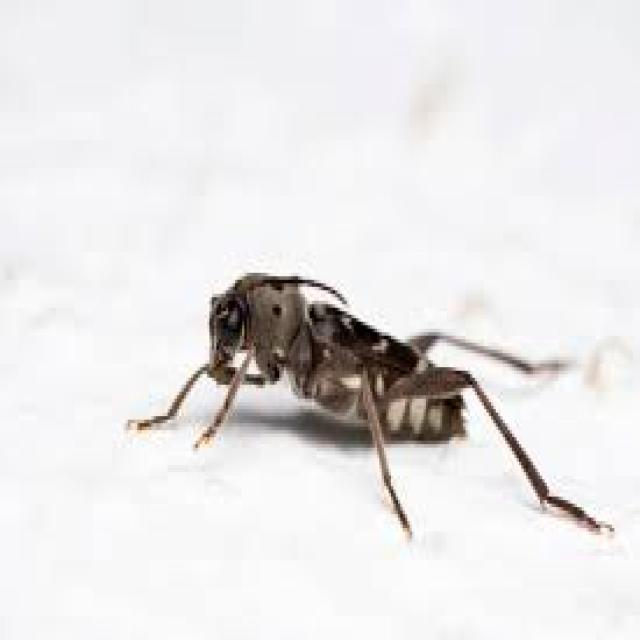Saw Fly: (116, 257, 618, 560)
